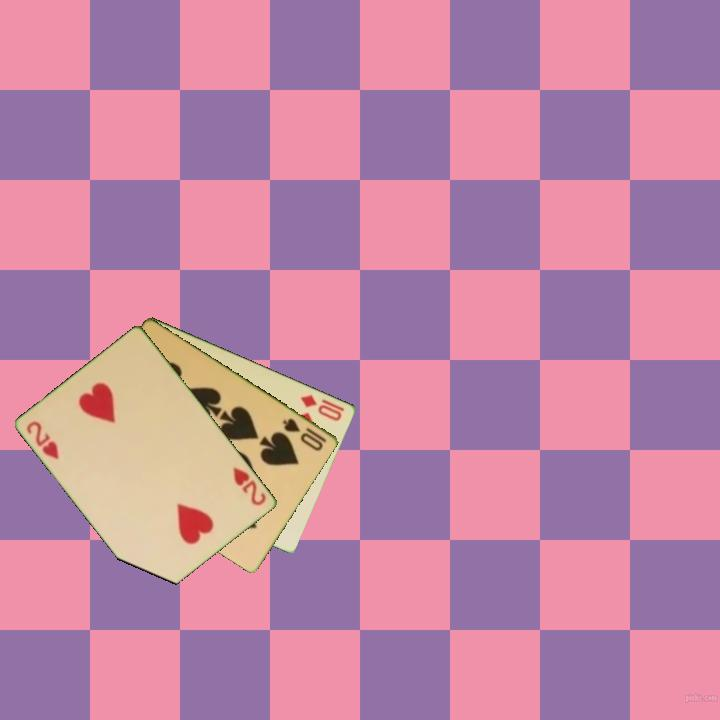10d: (297, 391, 345, 424)
10s: (279, 414, 330, 454)
2h: (23, 417, 63, 462), (230, 464, 269, 509)
